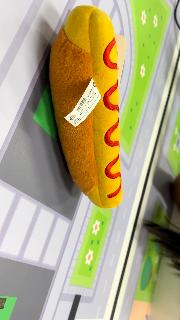hotdog: (49, 5, 124, 209)
